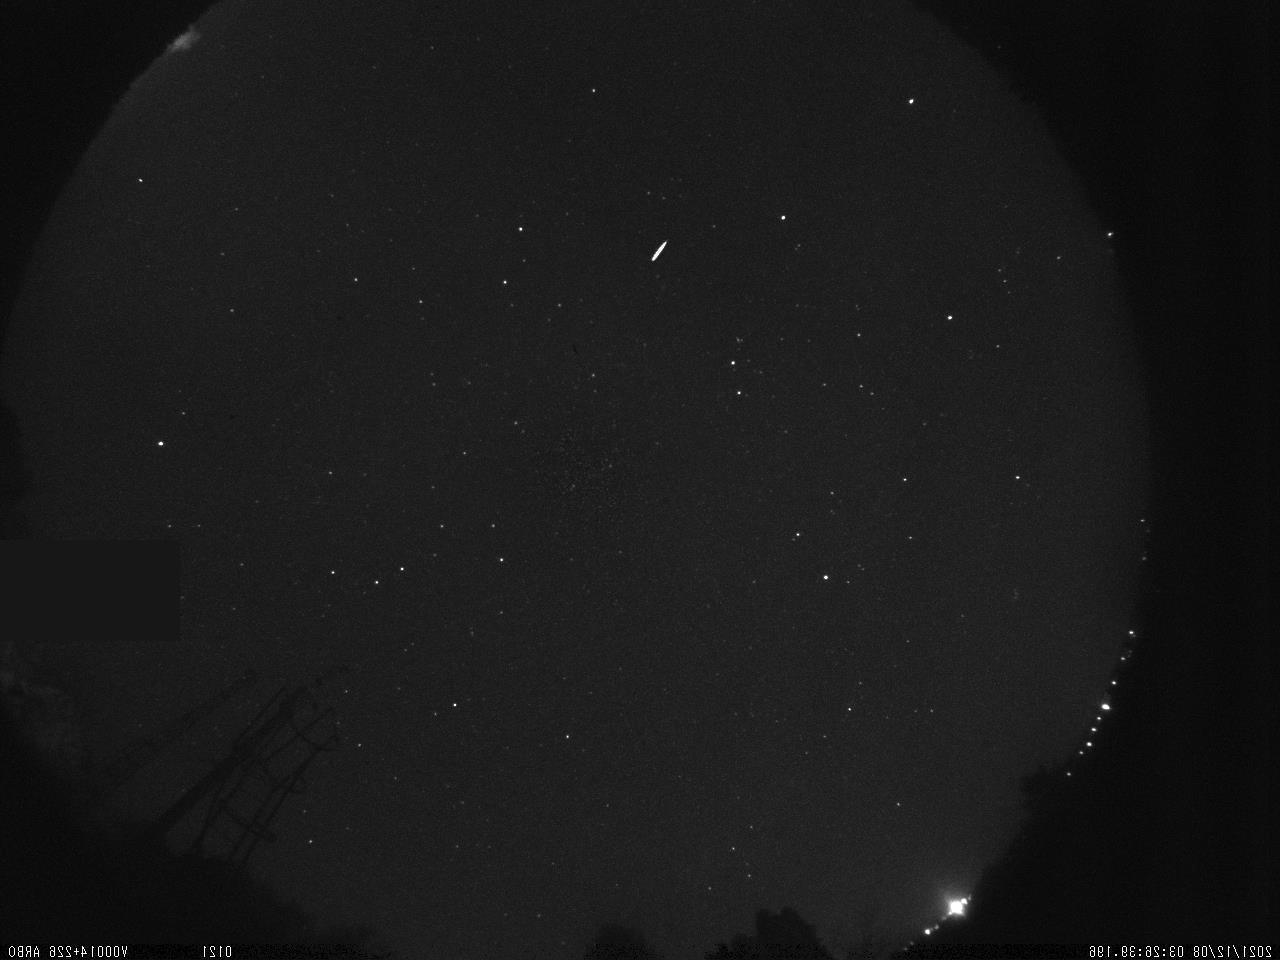meteor: (612, 231, 692, 281)
